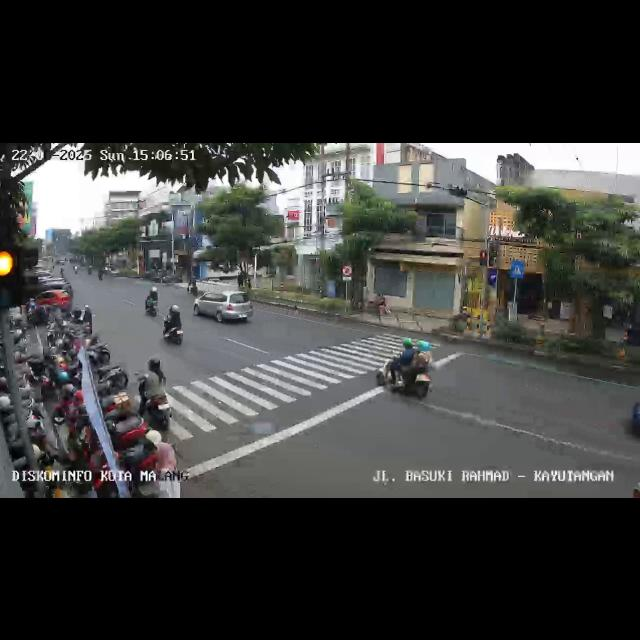car: (193, 288, 255, 326)
motorcycle: (379, 338, 435, 400), (140, 359, 172, 429), (616, 383, 640, 451), (161, 304, 185, 346), (144, 285, 160, 315)
